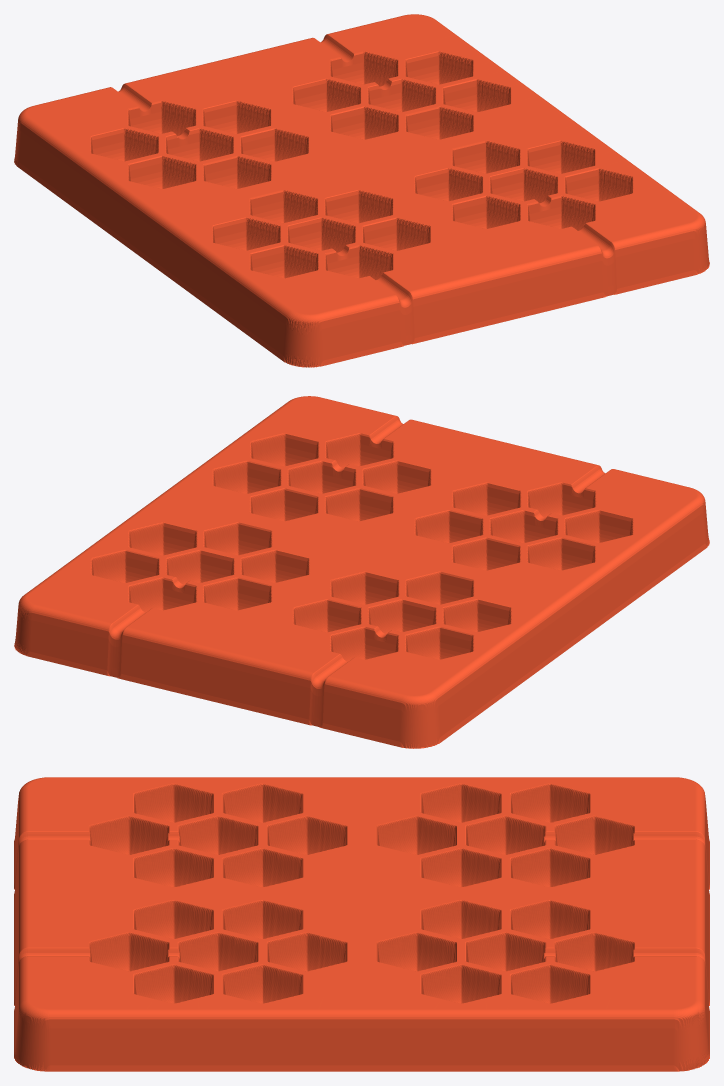
The model's file is mold.glb.
The picture shows the model from 3 angles, top to bottom: view 1: azimuth 30°, elevation 25°; view 2: azimuth 150°, elevation 25°; view 3: azimuth 270°, elevation 25°; orthographic projection. The views are drawn at different scales.
Parts seen in each view (by area): view 1: geometry_0; view 2: geometry_0; view 3: geometry_0.
Boxes of the visible parts, bbox=[...] form: geometry_0: bbox=[14, 14, 709, 367]; geometry_0: bbox=[14, 396, 709, 748]; geometry_0: bbox=[14, 777, 709, 1071].
Size of the model in its own units: 0.1436 by 0.0155 by 0.1735.
